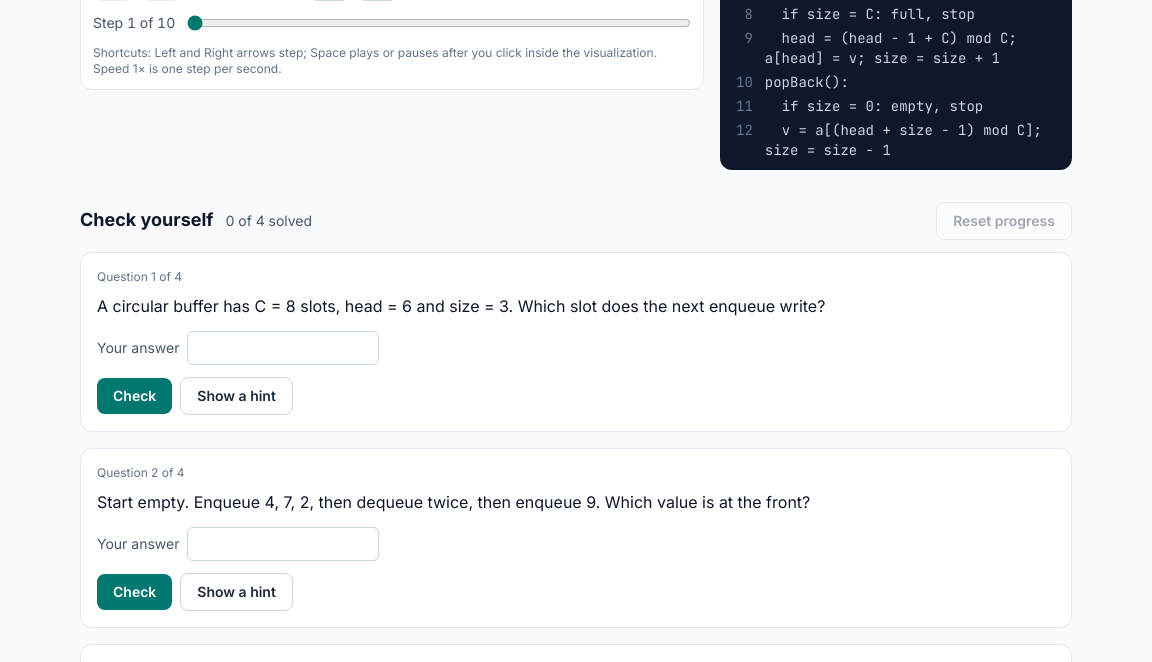
Test: queues and deques lesson › checks a practice answer, wrong then right, with a hint
(page scrolled)
Type "9" into the field named "answer" at [284, 348], box left=188, top=331, right=380, bottom=365
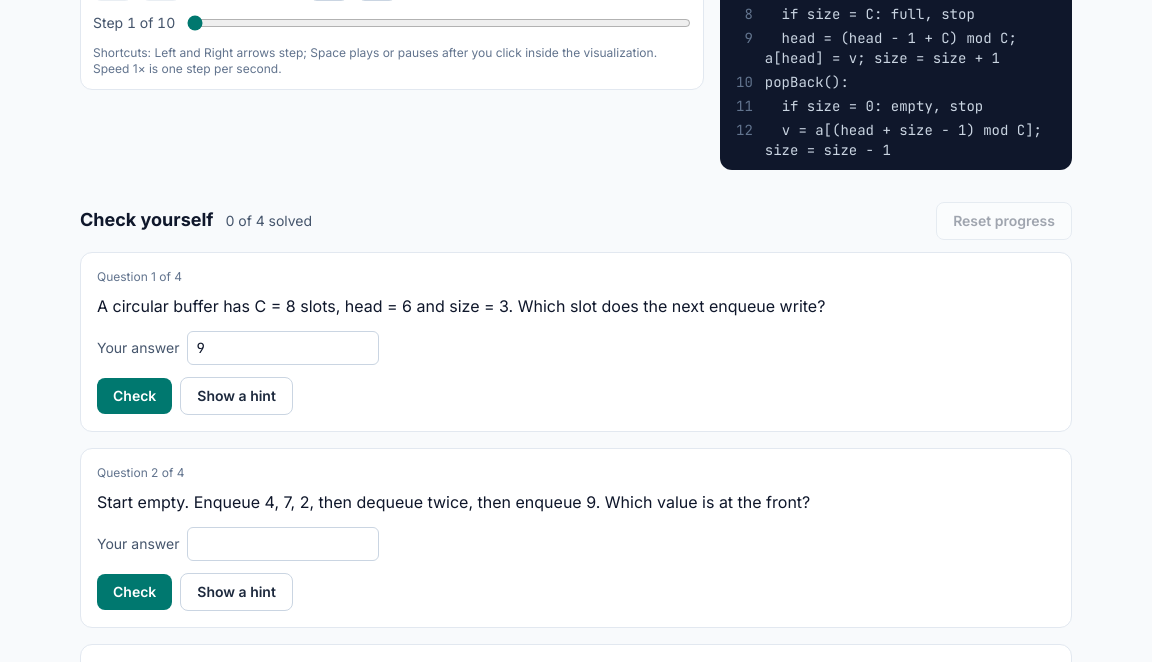
Submit the form "Your answer Check Show a hint" below "Question 1 of 4", box left=97, top=331, right=380, bottom=415
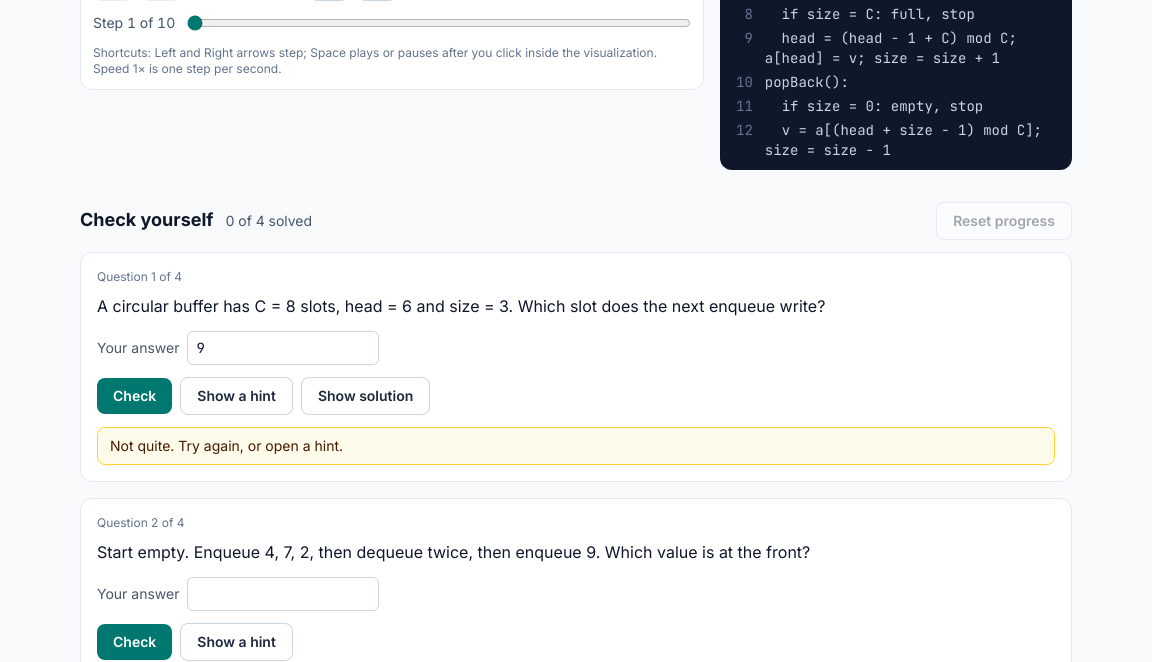
Expected: the list item that starts with "Question 1 of 4" shows "Not quite", left=110, top=437, right=343, bottom=454
Click the button "Show a hint" below "Question 1 of 4" at [237, 396], box left=180, top=377, right=293, bottom=415
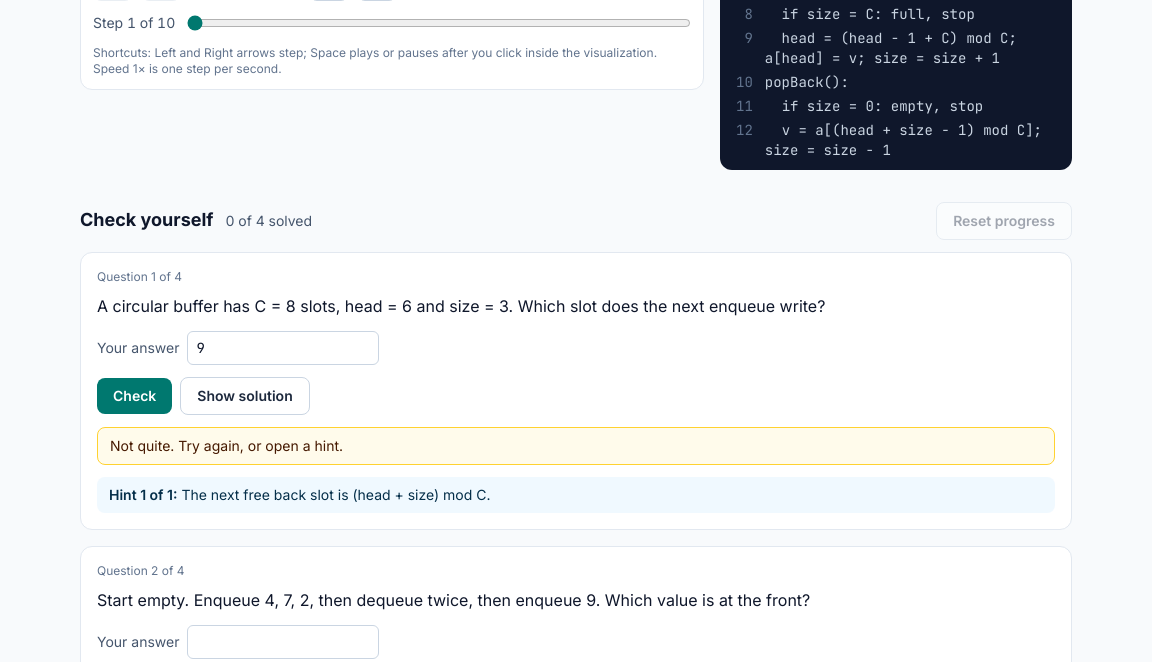
Expected: the list item that starts with "Question 1 of 4" shows "The next free back slot is (head + size) mod C.", left=178, top=486, right=490, bottom=503
Replace the text in the field named "answer" with "1" at [284, 348], box left=188, top=331, right=380, bottom=365
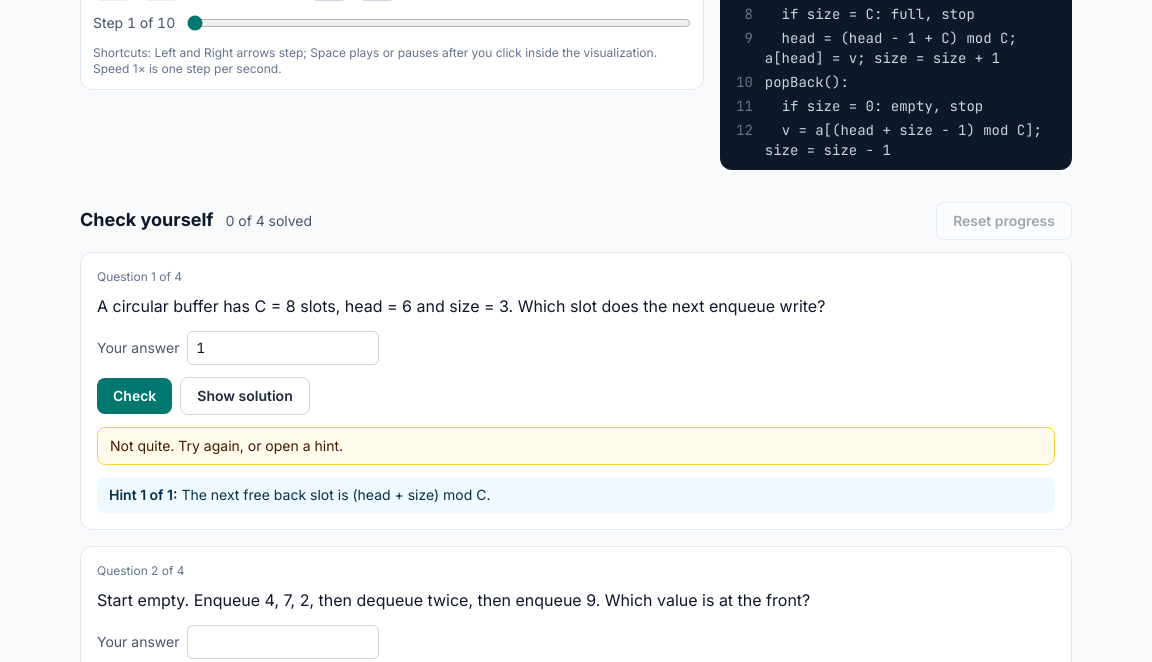
Submit the form "Your answer Check Show solution", box left=97, top=331, right=380, bottom=415
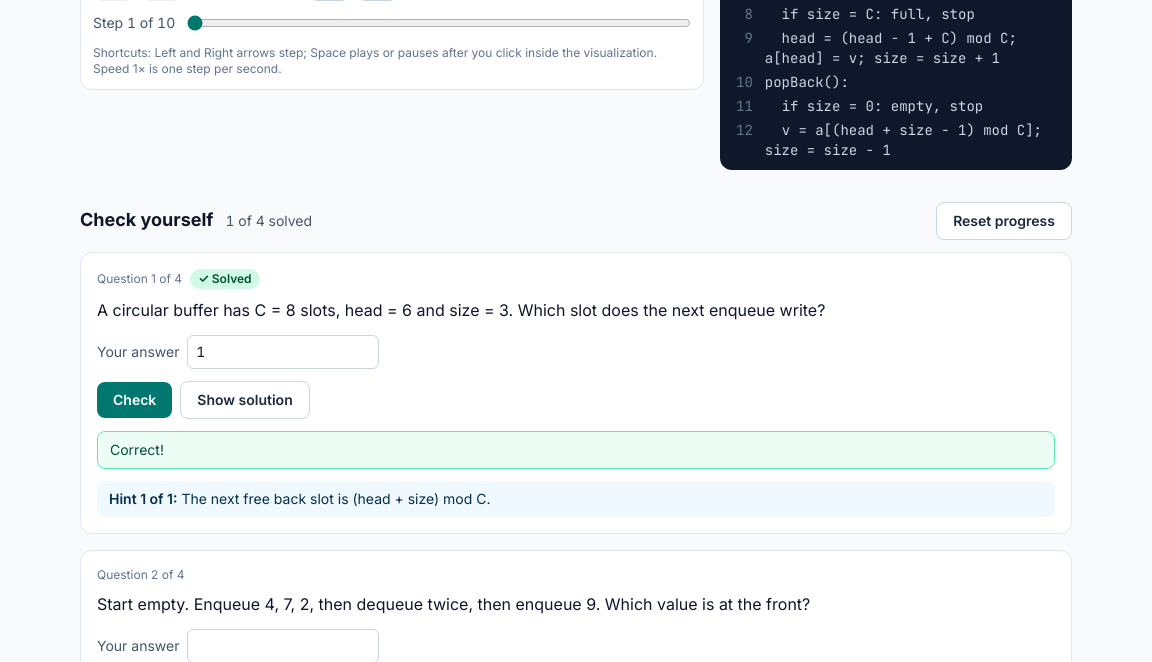
Expected: the list item that starts with "Question 1 of 4" shows "Correct!", left=110, top=441, right=164, bottom=458
